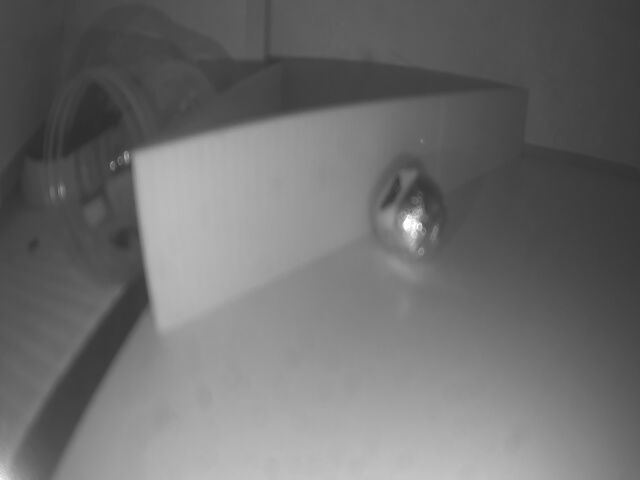Live: (373, 169, 447, 258)
Point: (162, 87, 530, 337)
